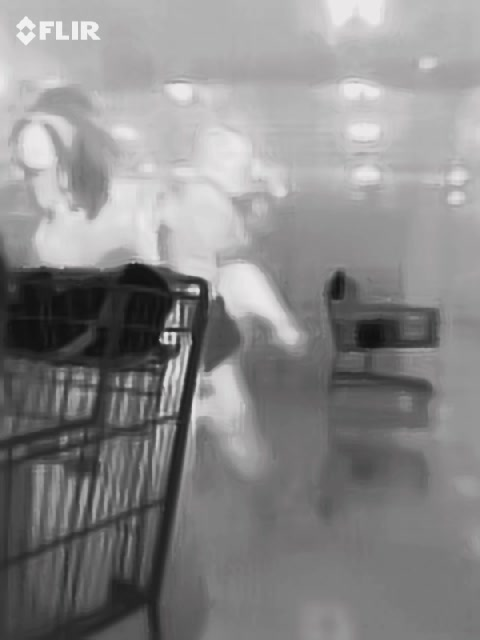head: (14, 92, 114, 213)
